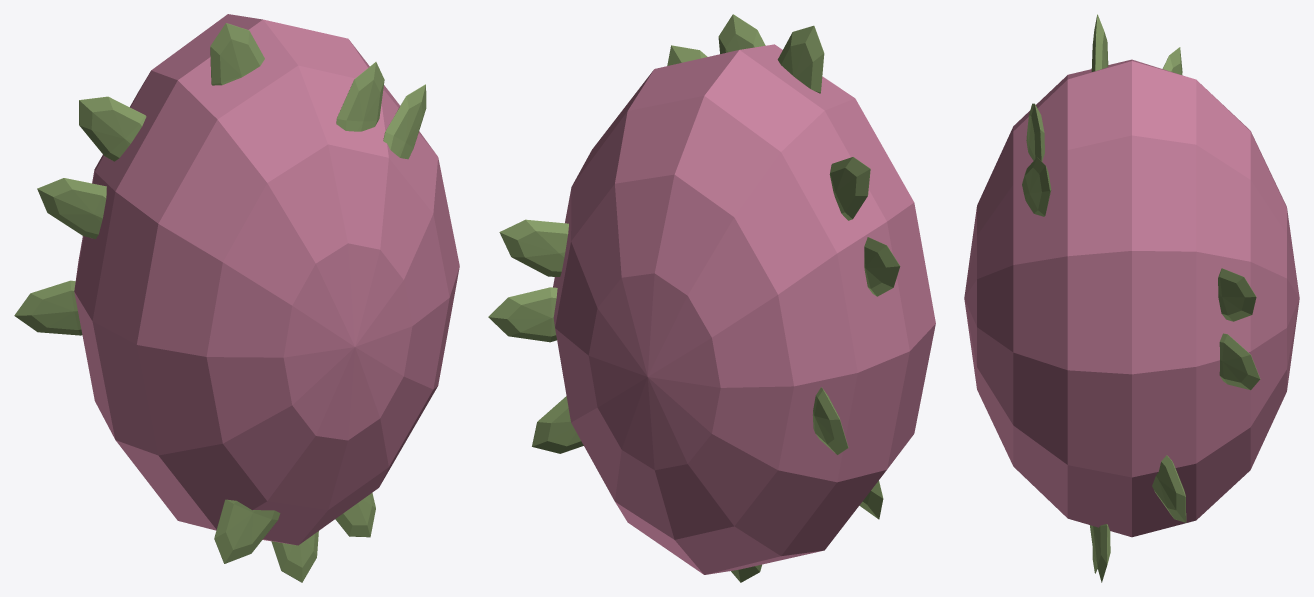
The model's file is dragon_fruit.glb.
The picture shows the model from 3 angles, left to right: view 1: azimuth 30°, elevation 25°; view 2: azimuth 150°, elevation 25°; view 3: azimuth 270°, elevation 25°; orthographic projection. The views are drawn at different scales.
Parts seen in each view (by area): view 1: dragon_fruit; view 2: dragon_fruit; view 3: dragon_fruit.
Boxes of the visible parts, bbox=[...] form: dragon_fruit: bbox=[14, 14, 459, 582]; dragon_fruit: bbox=[488, 14, 935, 582]; dragon_fruit: bbox=[964, 14, 1299, 582].
Size of the model in its own units: 0.0989 by 0.1456 by 0.084.
